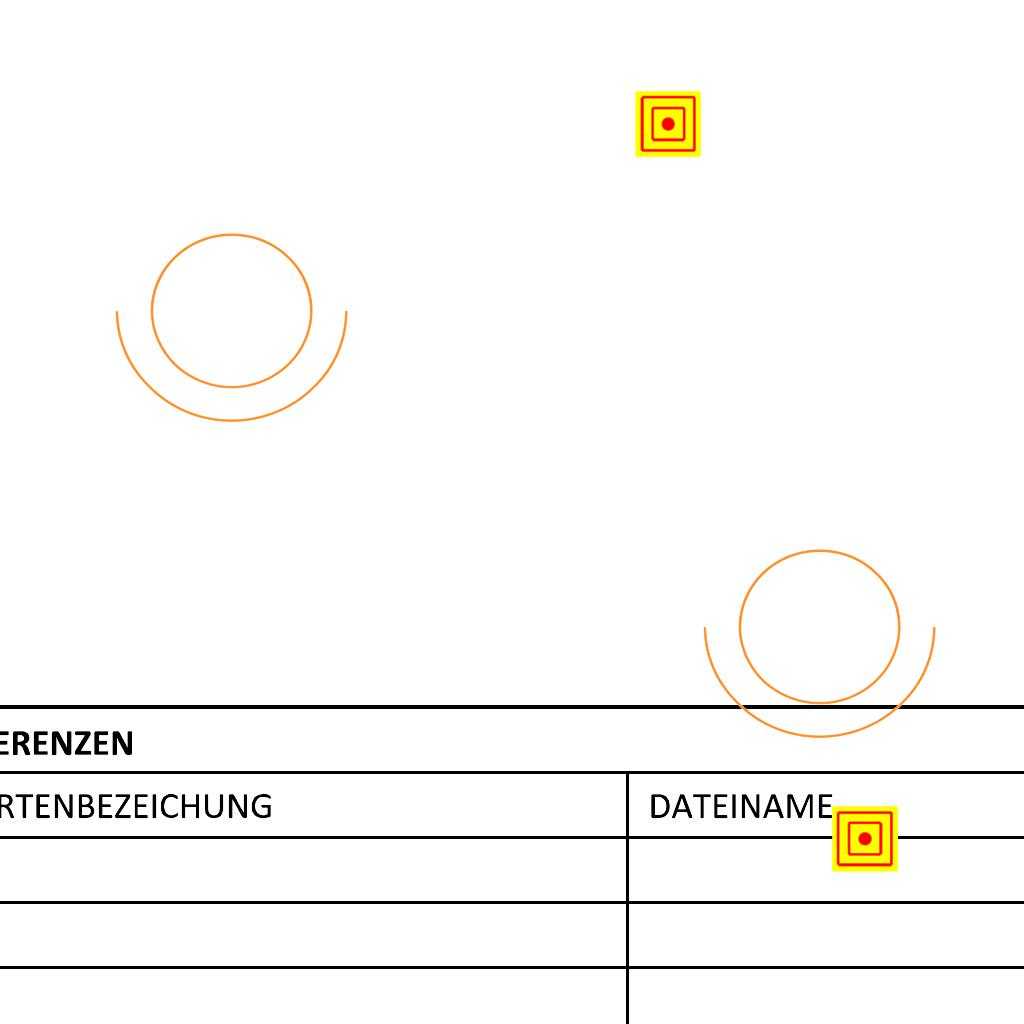NAM-Nichtautomatischer_Melder: (832, 806, 898, 872), (635, 91, 701, 157)
Scheinwerfer_fuer_Alarmbeleuchtung: (694, 524, 958, 749), (106, 208, 370, 433)
